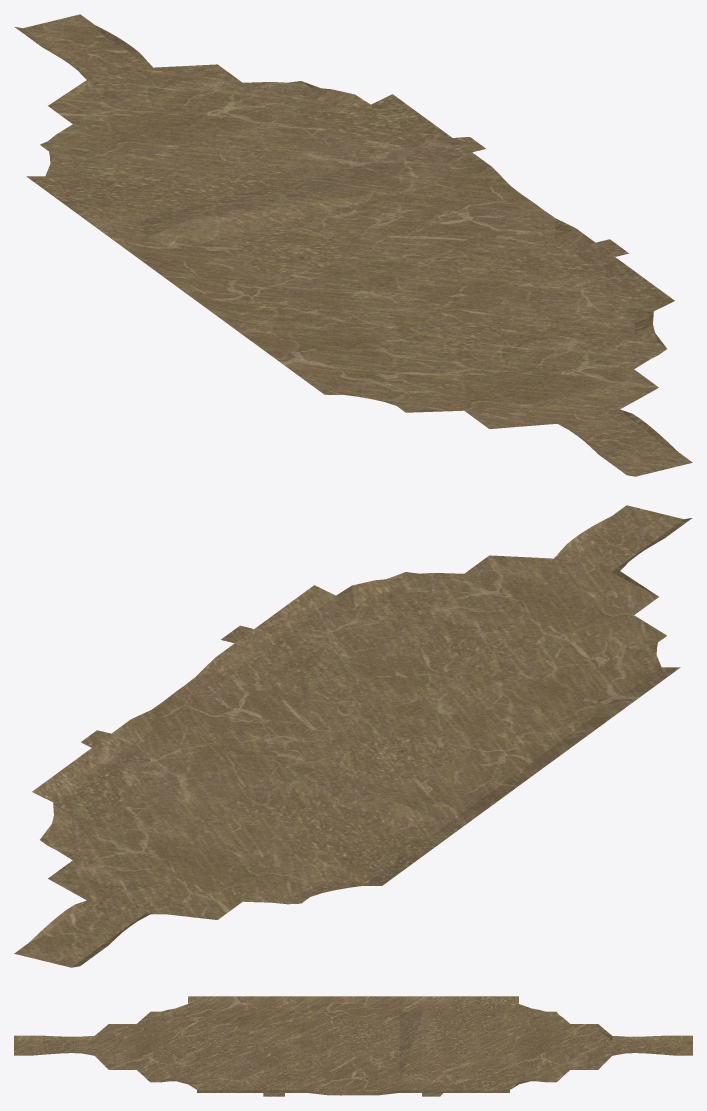
The model's file is cave_NavMesh.glb.
3 renders of one model, top to bottom at view 1: azimuth 30°, elevation 25°; view 2: azimuth 150°, elevation 25°; view 3: azimuth 270°, elevation 25°, orthographic. The views are drawn at different scales.
Parts seen in each view (by area): view 1: cave_base; view 2: cave_base; view 3: cave_base.
Boxes of the visible parts, x1,y1,x2,y2 form: cave_base: [15, 14, 692, 476]; cave_base: [14, 505, 691, 967]; cave_base: [14, 996, 692, 1096].
Bounding box in the file's own units: 61.39 × 1.39 × 175.
Materials: 1 (1 with a texture image).
